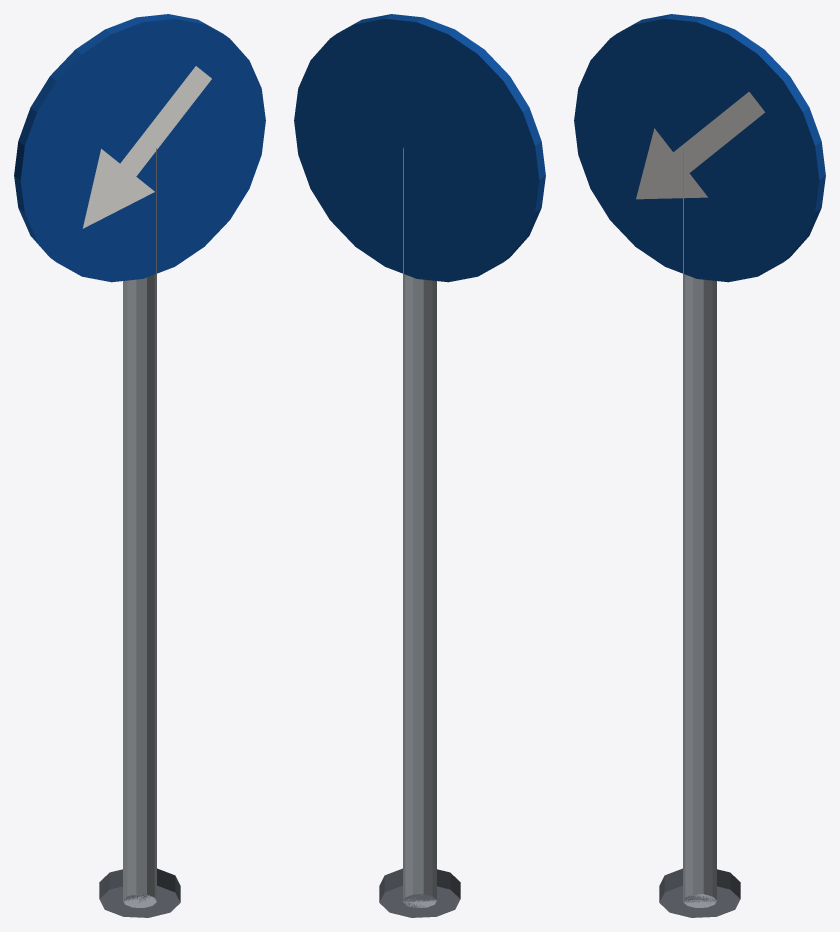
File: sign-keepleft.glb
3 renders of one model, left to right at view 1: azimuth 30°, elevation 25°; view 2: azimuth 150°, elevation 25°; view 3: azimuth 330°, elevation 25°, orthographic.
Visible parts, largest first — view 1: sign-keepleft; view 2: sign-keepleft; view 3: sign-keepleft.
Part boxes in pixels (x1=…): sign-keepleft: x1=14, y1=14, x2=265, y2=917; sign-keepleft: x1=294, y1=14, x2=545, y2=917; sign-keepleft: x1=574, y1=14, x2=825, y2=917.
Size of the model in its own units: 0.75 by 2.58 by 0.2054.
